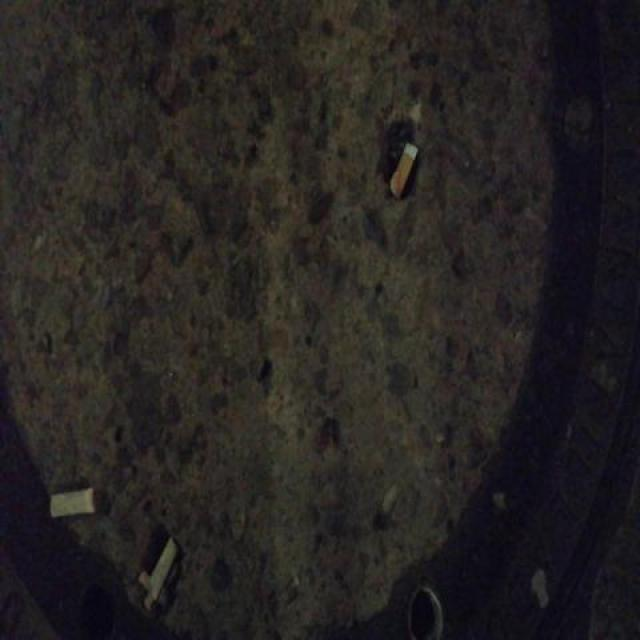non-organic waste: (146, 532, 182, 604), (384, 135, 420, 202), (46, 481, 101, 524)
